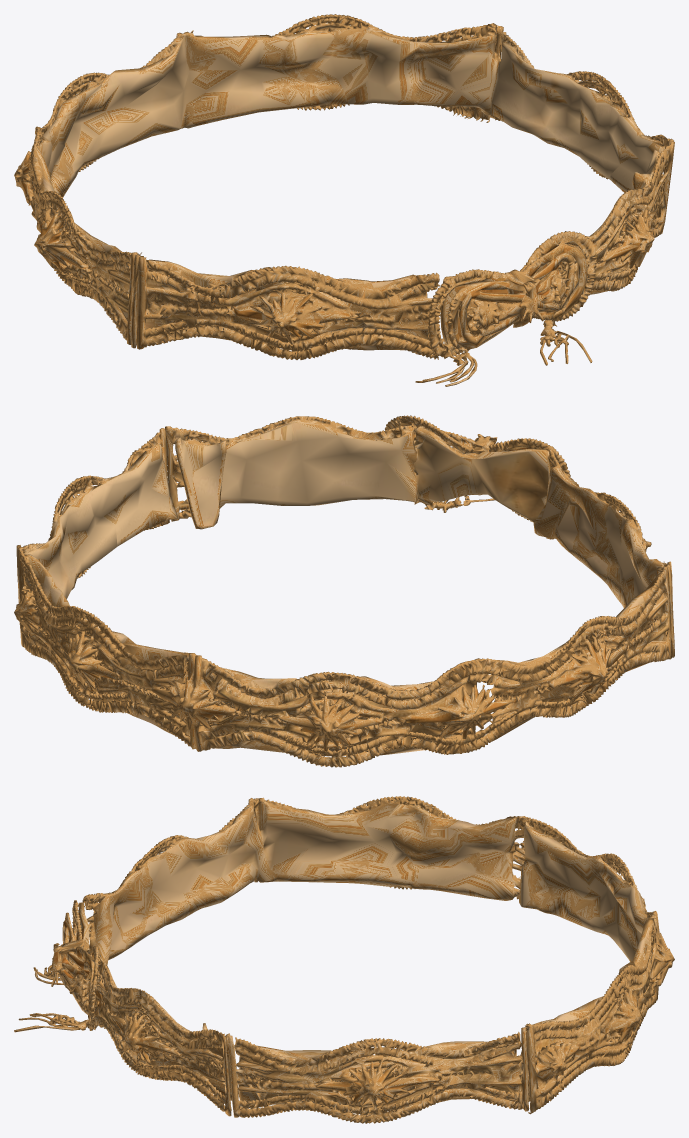
The model's file is pojas.glb.
The picture shows the model from 3 angles, top to bottom: view 1: azimuth 30°, elevation 25°; view 2: azimuth 150°, elevation 25°; view 3: azimuth 270°, elevation 25°; orthographic projection. The views are drawn at different scales.
Size of the model in its own units: 1.76 by 0.2907 by 1.9.
Materials: 1 (1 with a texture image).
